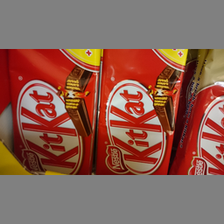chocolate: (7, 48, 99, 173), (99, 49, 183, 175), (177, 49, 224, 175)
